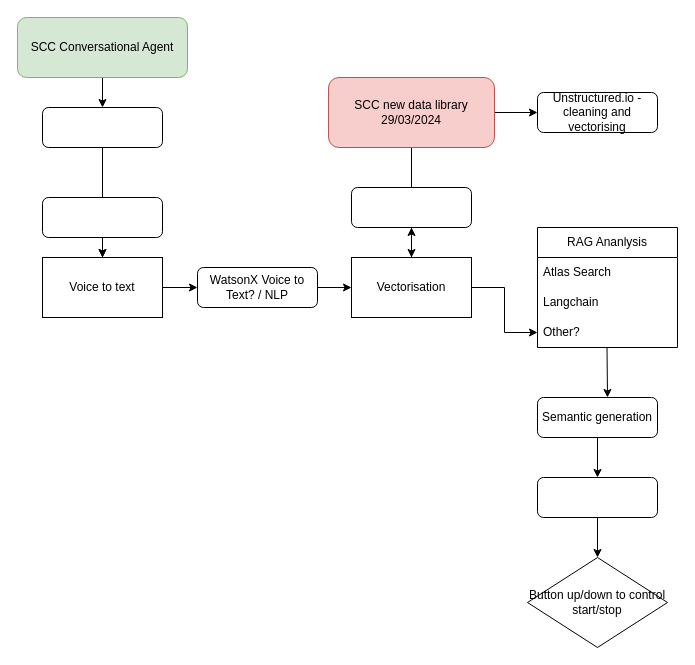
This 695x665 diagram has some shape labels left out. The box of each missing label's shape, as (x1, y1, x2, y2) in pixels:
Azure Blob Storage: (350, 186, 472, 228)
Microphones and speakers? Pick up audio channels: (42, 196, 162, 238)
Teams Call Agent due to security: (42, 106, 162, 148)
User interface: (536, 476, 658, 518)
